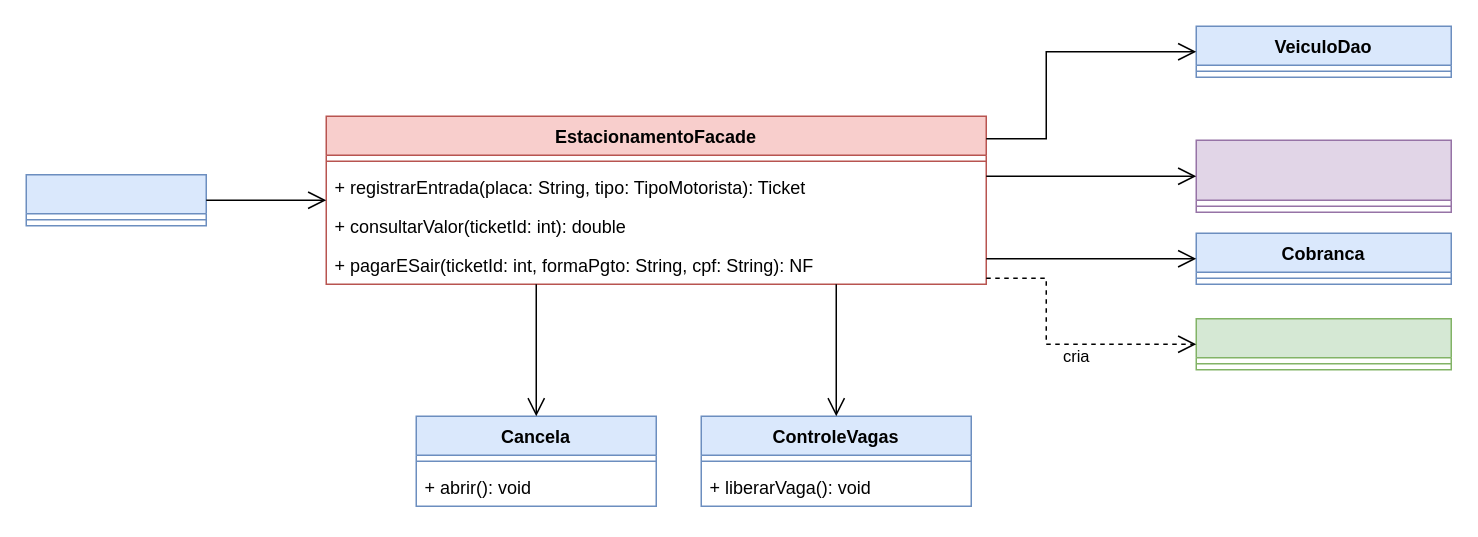
This 1478x537 diagram has some shape labels left out. Here are the shapes that lost their labels. From the top down, the centre of each, then its label:
At point (1323, 175): "<<interface>> TarifaStrategy".
At point (115, 199): "Totem".
At point (1323, 343): "NF".
